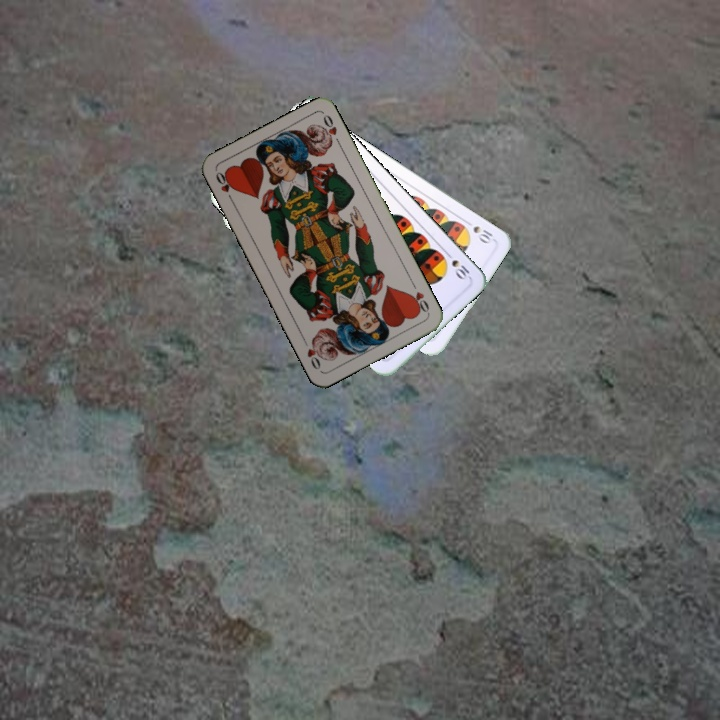HO: (406, 278, 432, 316), (212, 167, 236, 205)
S10: (441, 247, 472, 283), (461, 216, 495, 246)
